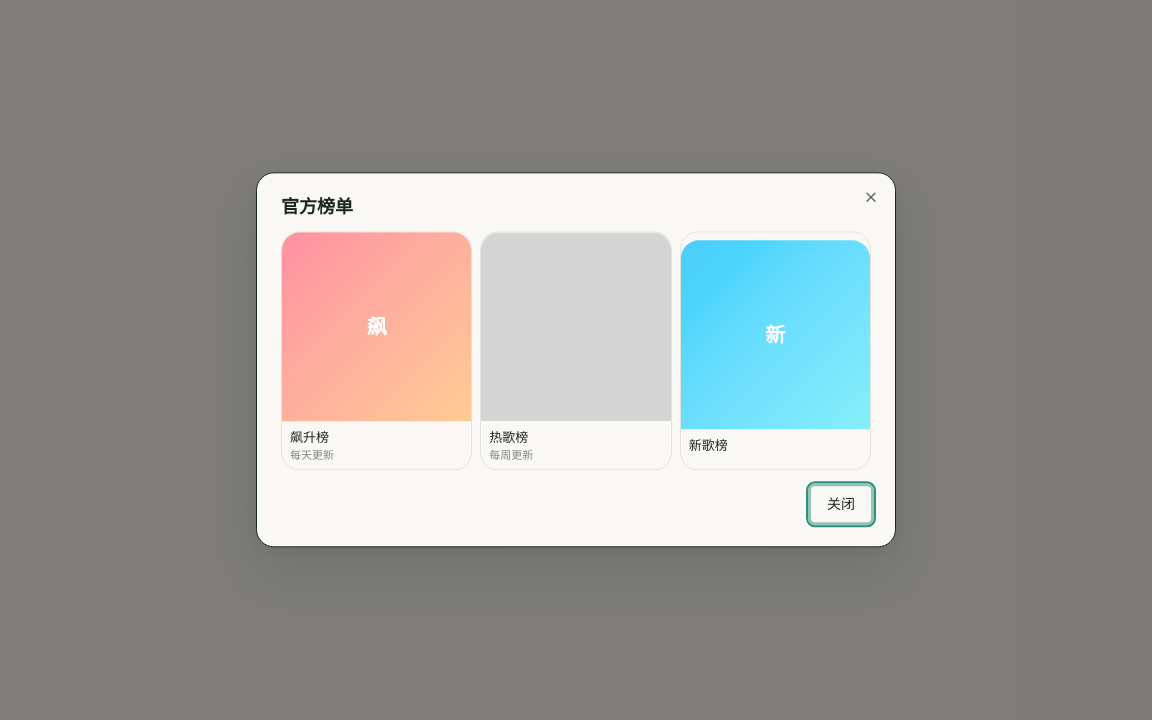
it: ChartsBrowseDialog › 返回榜单列表不重新请求 charts
The width and height of the screenshot is (1152, 720).
Click the text "飙升榜" at (310, 438), box [290, 429, 329, 447]
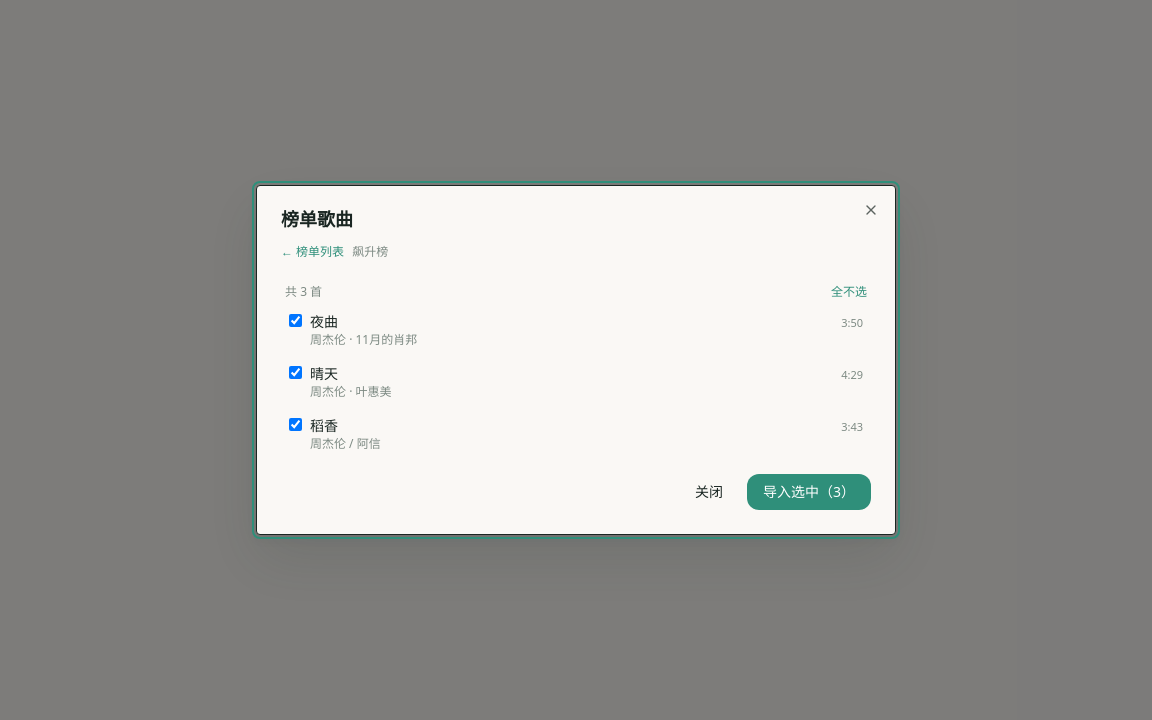
Expected: the list with test id "song-list" is shown, [281, 306, 871, 458]
Click the button with test id "back-button" at (313, 252), box [281, 244, 344, 260]
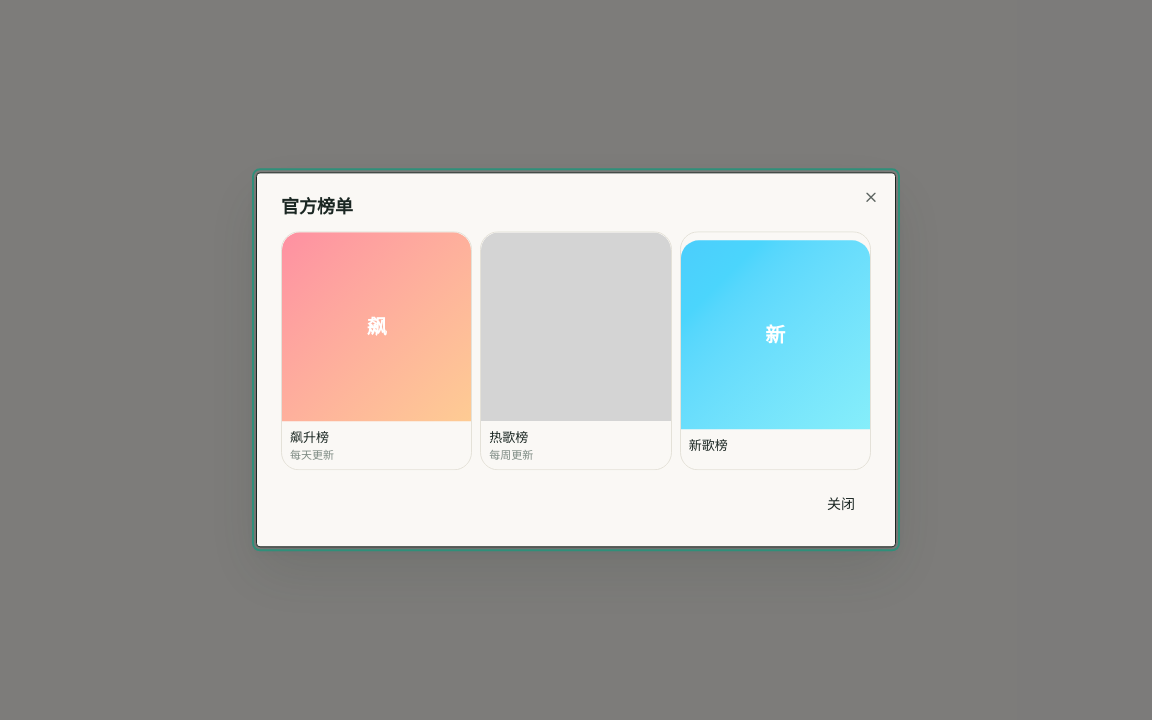
Expected: the element with test id "charts-grid" is shown, [281, 231, 871, 471]
